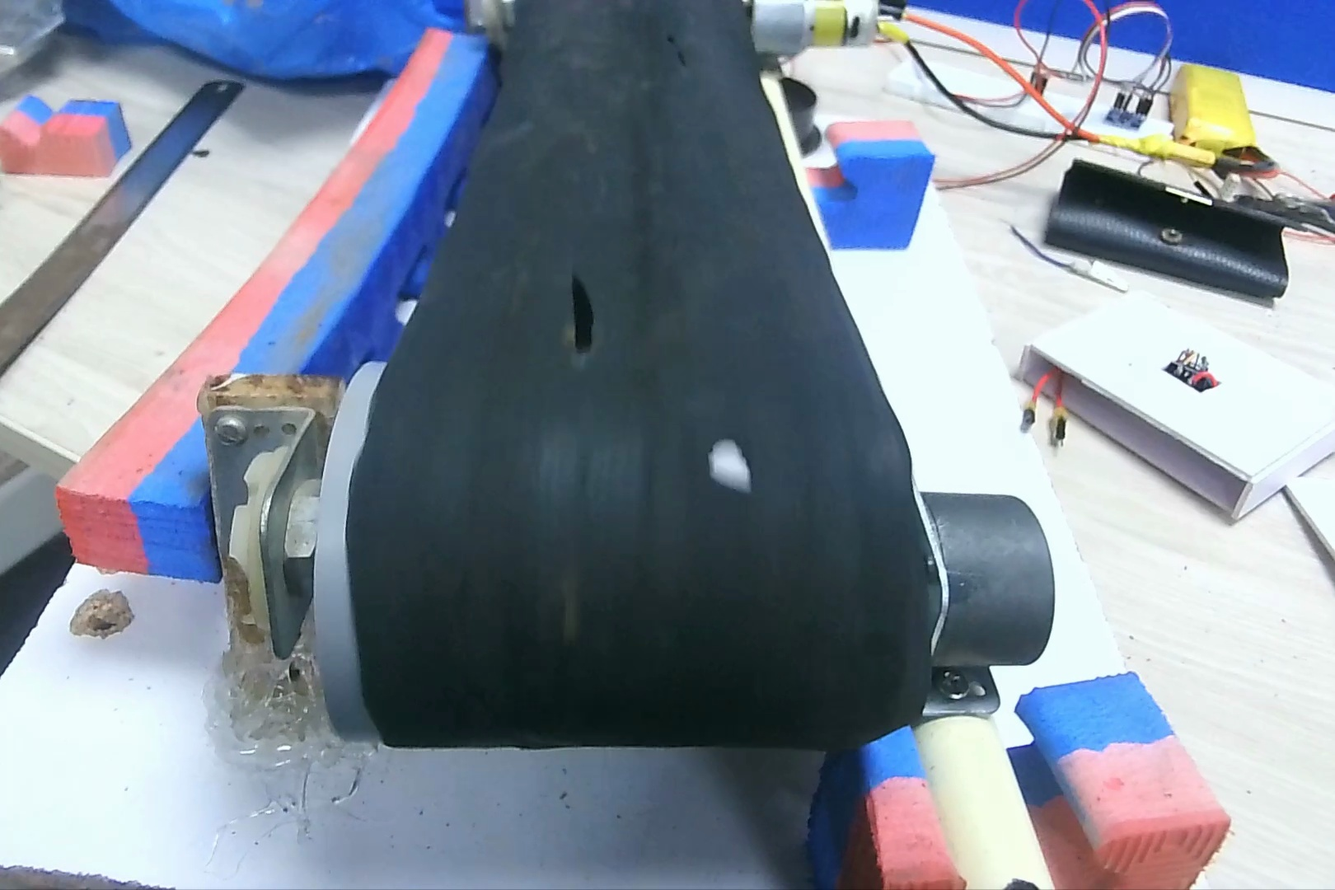hole: (704, 444, 757, 491), (712, 445, 748, 483), (397, 300, 416, 324)
